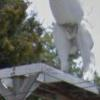Statue: (39, 2, 98, 76)
